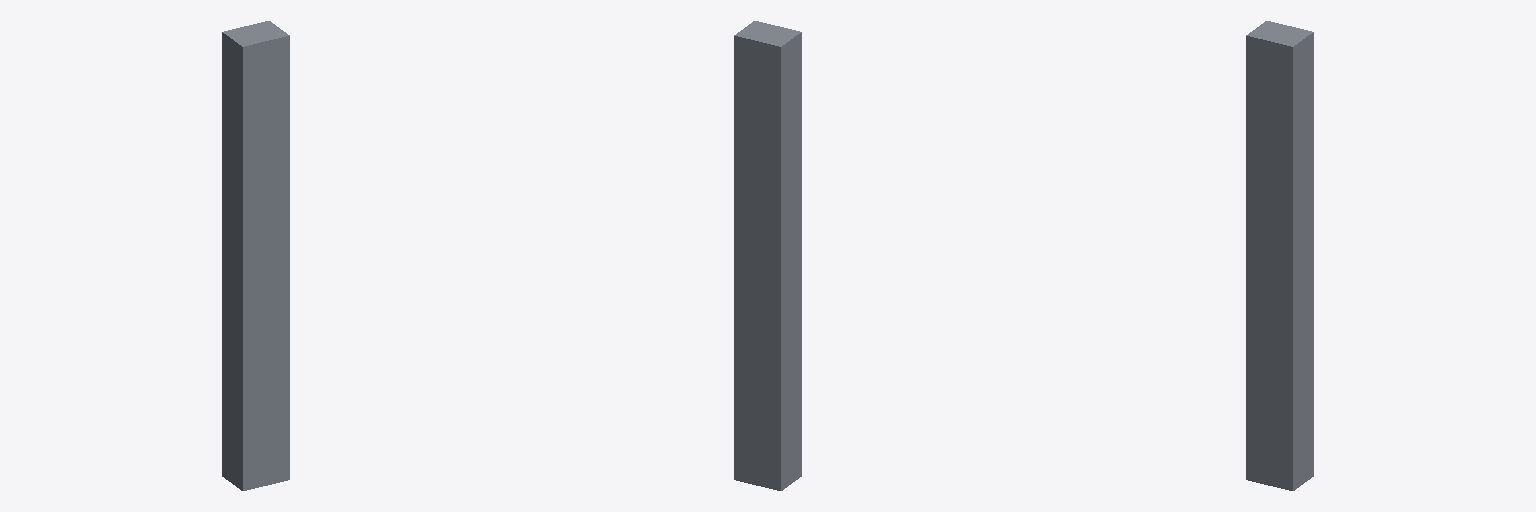
robot.urdf — artmanip_knife_000:
<?xml version='1.0' encoding='utf-8'?>
<robot name="artmanip_knife_000"><link name="link_0"><inertial><mass value="0.02515314038963143" /><inertia ixx="3.8139196971992836e-05" iyy="3.83340507332008e-05" izz="7.277239232806813e-07" ixy="0" ixz="0" iyz="0" /></inertial><visual><geometry><box size="0.014834775917547999 0.01127431641432394 0.1344181779925691" /></geometry><material name="link_0_color"><color rgba=".58 .60 .64 1" /></material></visual><collision><geometry><box size="0.014834775917547999 0.01127431641432394 0.1344181779925691" /></geometry></collision></link><link name="link_1"><inertial><mass value="0.006" /><inertia ixx="4.545e-07" iyy="5e-07" izz="5.45e-08" ixy="0" ixz="0" iyz="0" /></inertial><visual><geometry><mesh filename="slider-shoulder.obj" /></geometry><material name="link_1_color"><color rgba=".12 .13 .15 1" /></material></visual><collision><geometry><mesh filename="slider-shoulder.obj" /></geometry></collision></link><joint name="slider" type="prismatic"><parent link="link_0" /><child link="link_1" /><origin xyz="-0.00040272460210920324 0.006669149918615964 0.005851579807223805" /><axis xyz="0 0 1" /><limit lower="-0.03267458688196273" upper="0.017325413118037272" effort="100" velocity="1" /><dynamics damping="1000" friction="0.001" /></joint></robot>

--- What the picture shows (computed from the rendered views, not written in the file) ---
The picture shows the robot from 3 angles, left to right: view 1: azimuth 30°, elevation 25°; view 2: azimuth 150°, elevation 25°; view 3: azimuth 330°, elevation 25°; orthographic projection.
Robot: artmanip_knife_000 — 2 links, 1 joints (1 prismatic); root link link_0; default pose: every joint at zero.
Links seen in each view (by area): view 1: link_0; view 2: link_0; view 3: link_0.
Link boxes in pixels (left/top/right/bottom): link_0: left=222, top=21, right=289, bottom=490; link_0: left=734, top=21, right=801, bottom=490; link_0: left=1246, top=21, right=1313, bottom=490.
Size in the robot's own frame: 0.0148 by 0.0113 by 0.1344 metres.
0 mesh visuals loaded from 1 distinct referenced files (none loaded); not drawn: 1 (reference not matched to a file when rendering).
